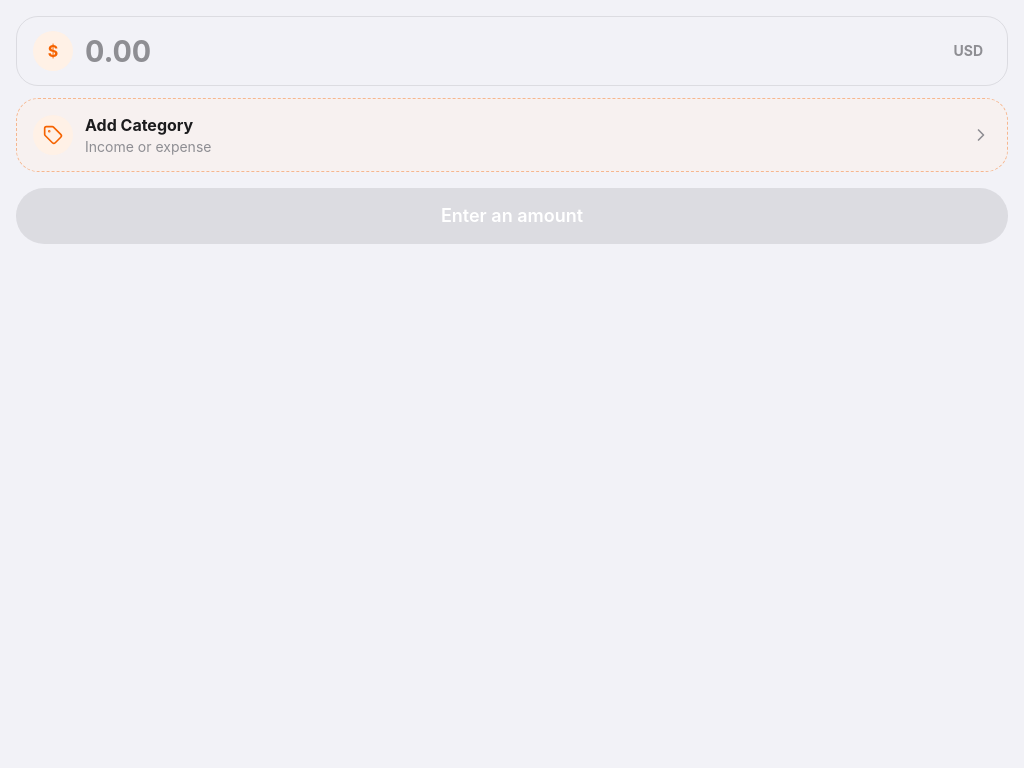
AddComposer (add mode) › guides the user from amount to category to a ready CTA
Expected: the button "Enter an amount" is disabled, [16,188,1008,244]
In the field named "Amount": coordinates (509, 51) [85,33,934,69], type "12.50"
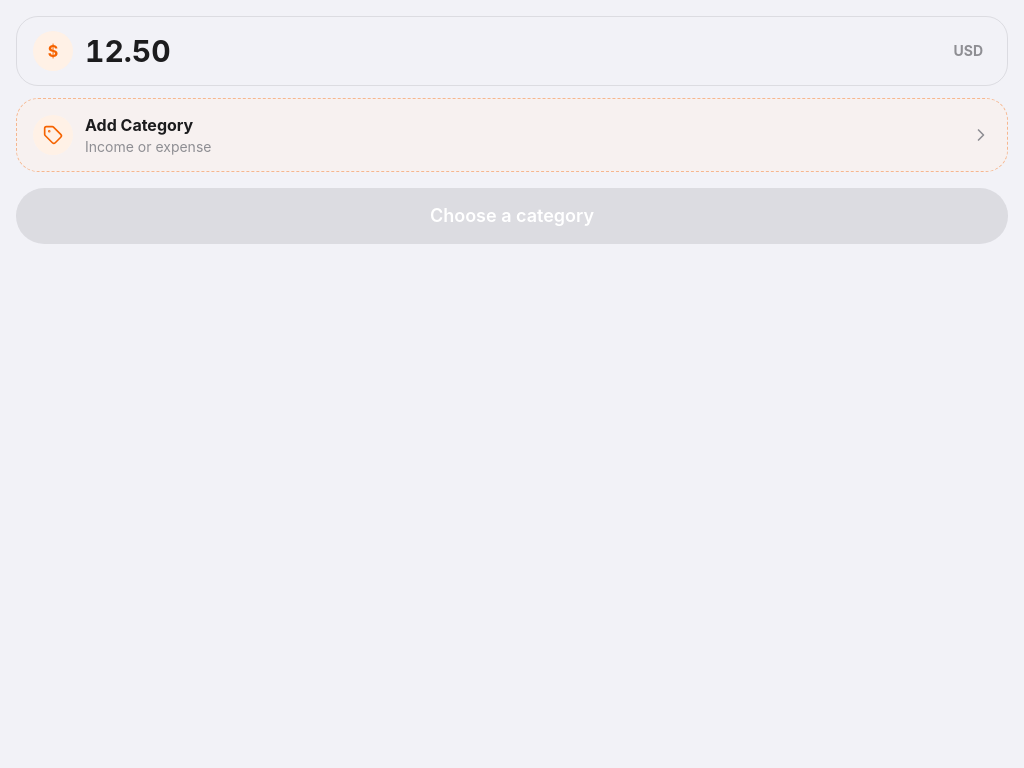
Expected: the button "Choose a category" is disabled, [16,188,1008,244]
Click the button "Add Category Income or expense": coordinates (53, 135) [16,98,1008,172]
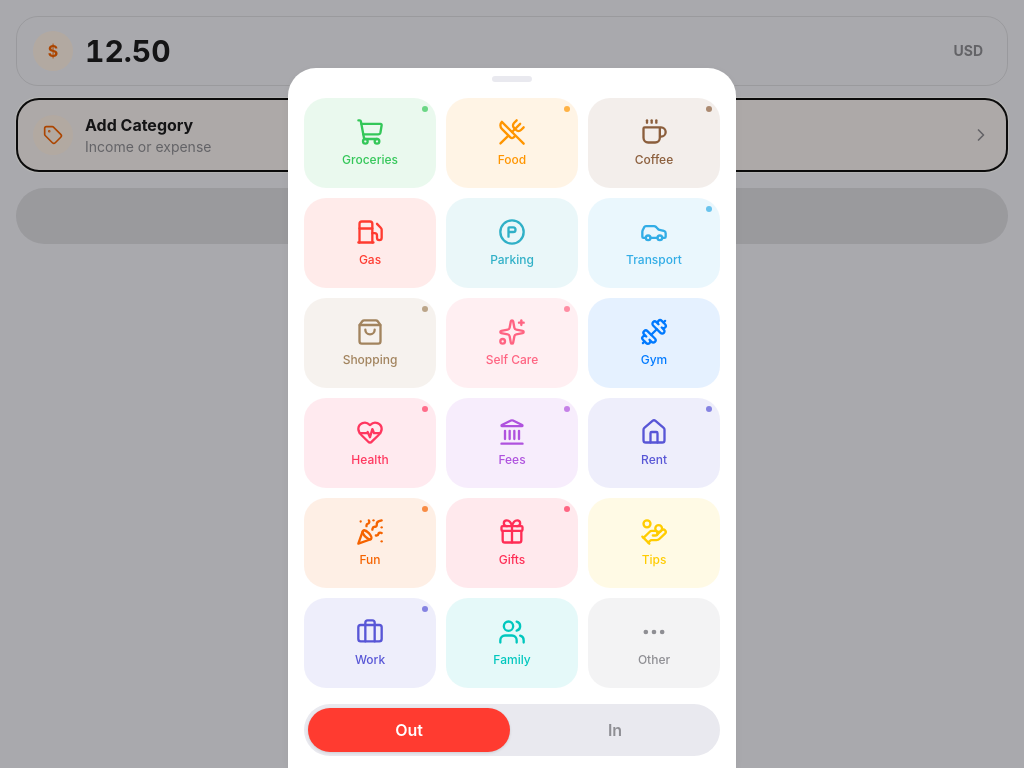
Click the button "Gas": coordinates (370, 243) [304,198,436,288]
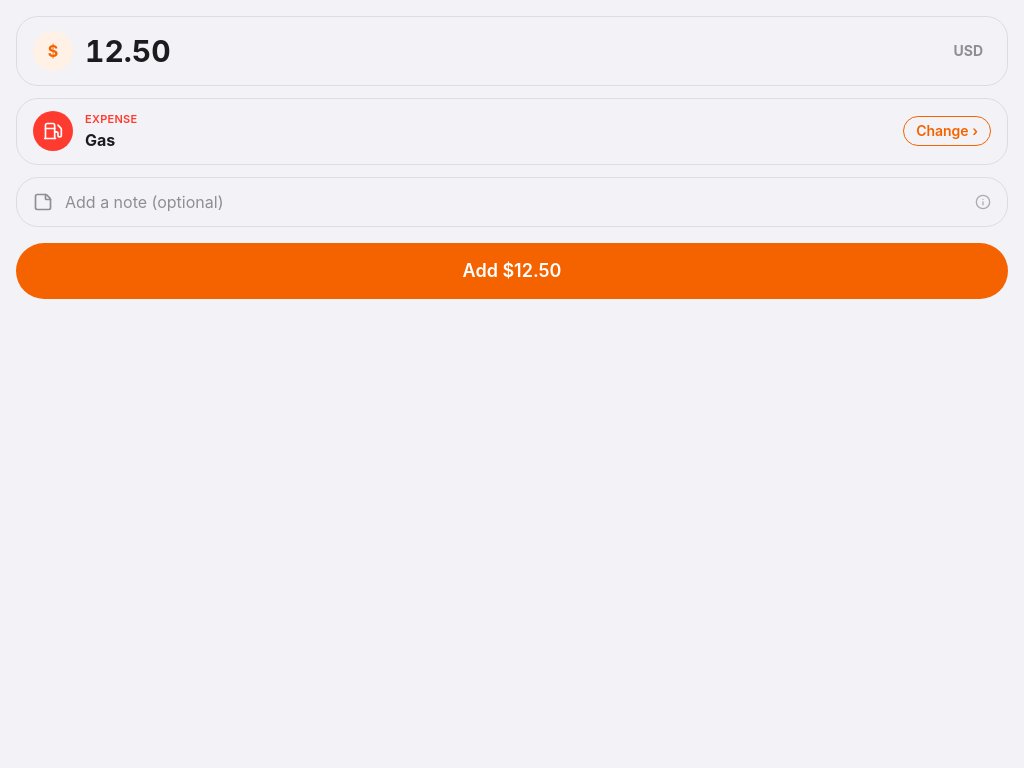
Result: the button "Add $12.50" is enabled at [16,242,1008,298]
